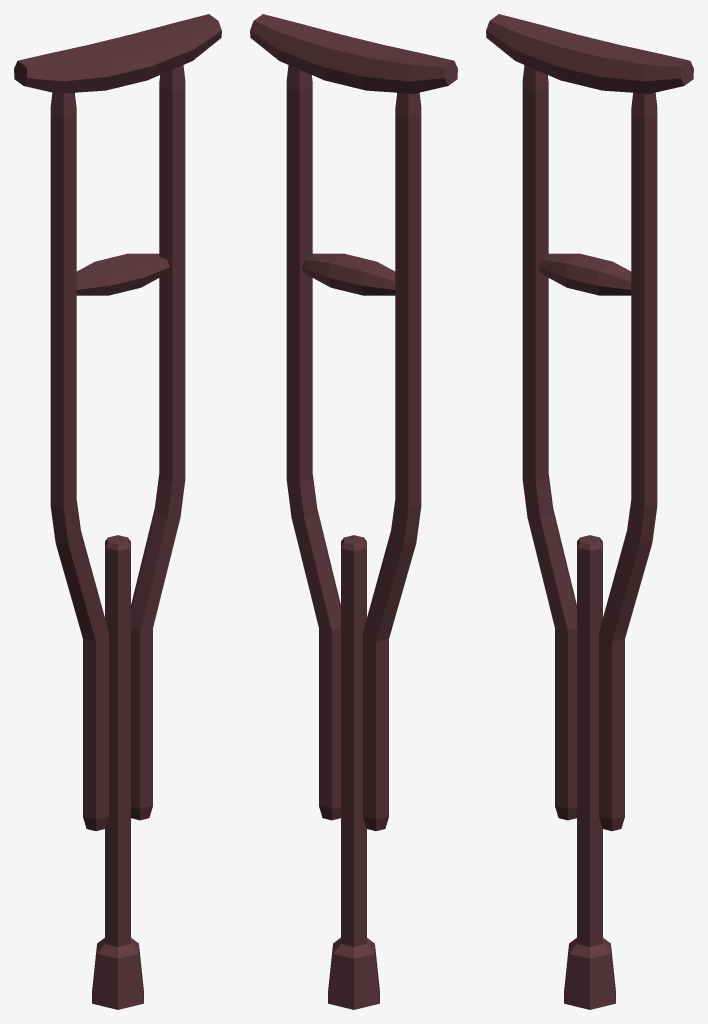
The model's file is crutch-axillary.fbx.
3 renders of one model, left to right at view 1: azimuth 30°, elevation 25°; view 2: azimuth 150°, elevation 25°; view 3: azimuth 330°, elevation 25°, orthographic.
Parts seen in each view (by area): view 1: crutch-axillary; view 2: crutch-axillary; view 3: crutch-axillary.
Part boxes in pixels (x1=…): crutch-axillary: x1=14, y1=14, x2=221, y2=1009; crutch-axillary: x1=250, y1=14, x2=457, y2=1009; crutch-axillary: x1=486, y1=14, x2=693, y2=1009.
Size of the model in its own units: 0.2865 by 1.32 by 0.065.
